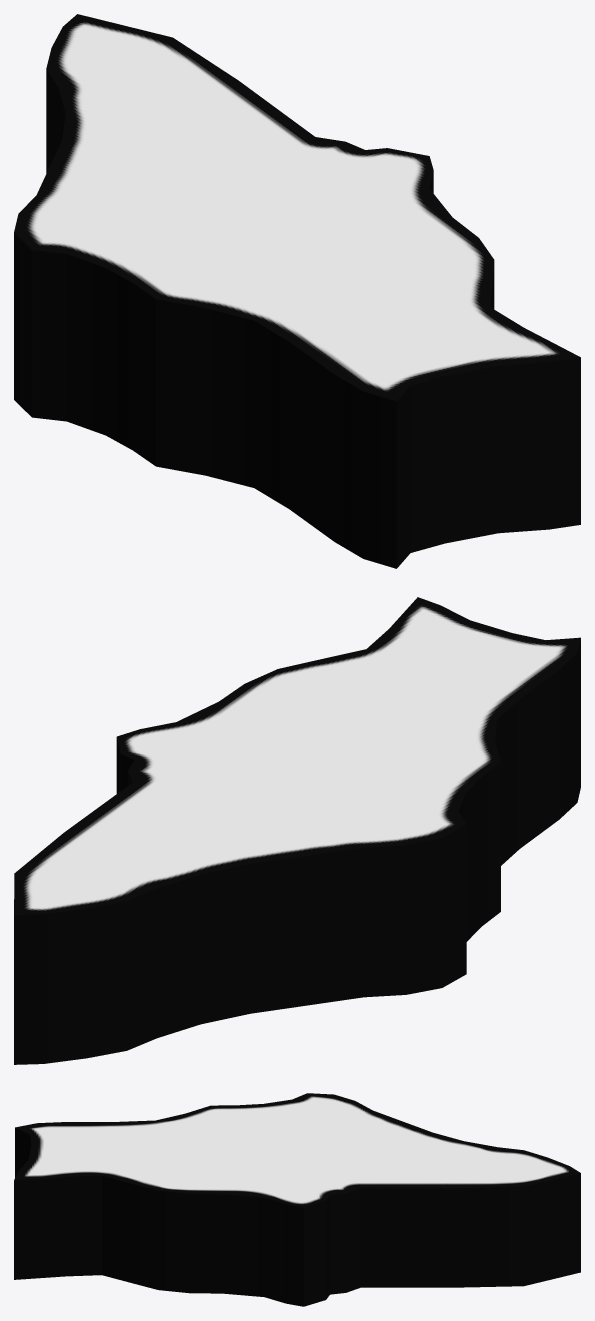
3 views of the same model, one above another, from view 1: azimuth 30°, elevation 25°; view 2: azimuth 150°, elevation 25°; view 3: azimuth 270°, elevation 25° (orthographic). The views are drawn at different scales.
Visible parts, largest first — view 1: polySurface30; view 2: polySurface30; view 3: polySurface30.
Boxes of the visible parts, box(x1,y1,x2,y2) form: polySurface30: box(14, 14, 580, 568); polySurface30: box(14, 597, 580, 1064); polySurface30: box(14, 1093, 580, 1306).
Bounding box in the file's own units: 1.23 × 0.5 × 2.59.
